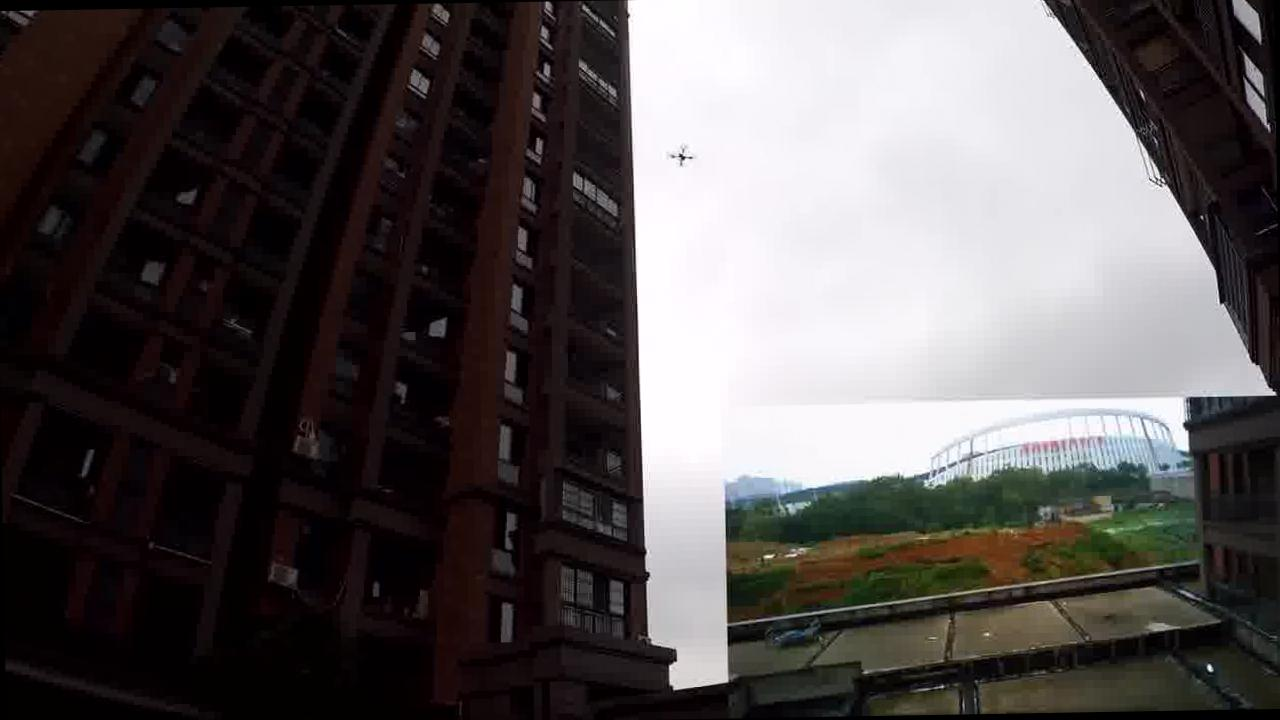drone: (664, 138, 694, 167)
